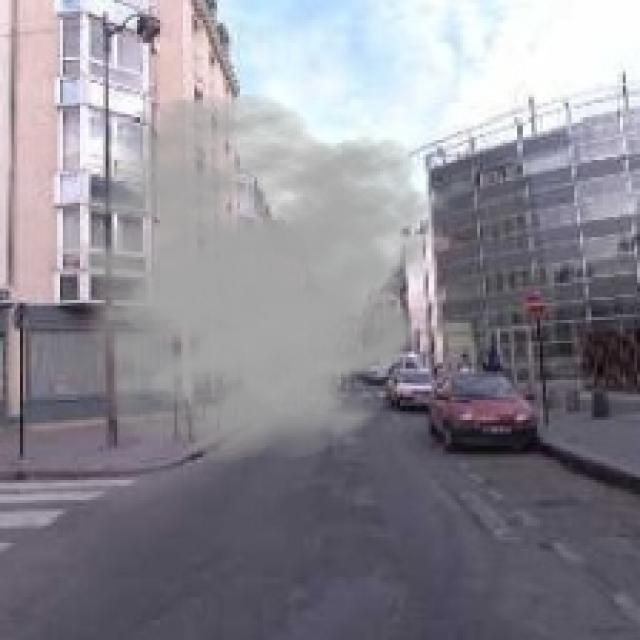Smoke: (31, 91, 452, 463)
